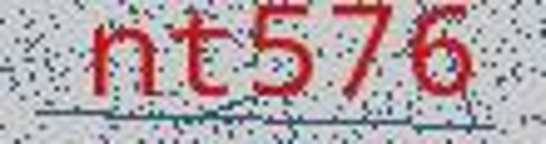5: (246, 3, 319, 116)
6: (407, 2, 481, 102)
7: (323, 2, 396, 108)
n: (81, 13, 164, 101)
t: (163, 4, 234, 108)
